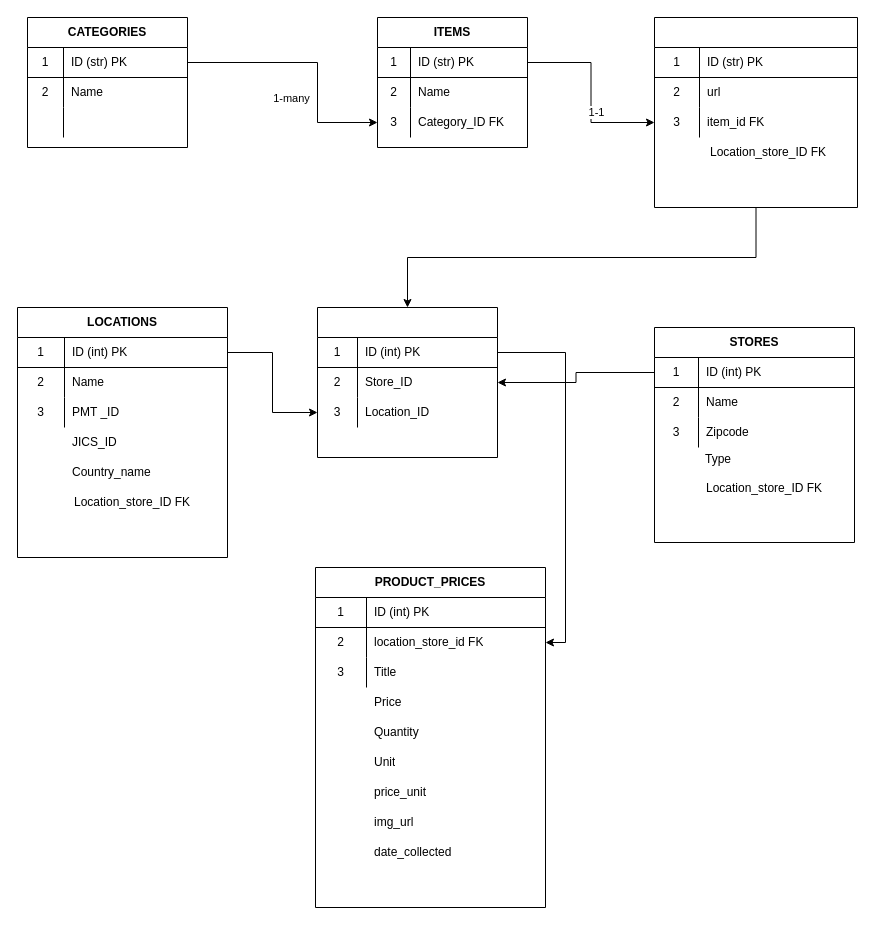
This 875x925 diagram has some shape labels left out. The shapes that lost their labels are listed below. From the top down, each one's box as (x1, y1, x2, y2) in pixels, then its label:
(654, 16, 858, 208): URLS
(316, 306, 498, 458): LOCATION_STORES
